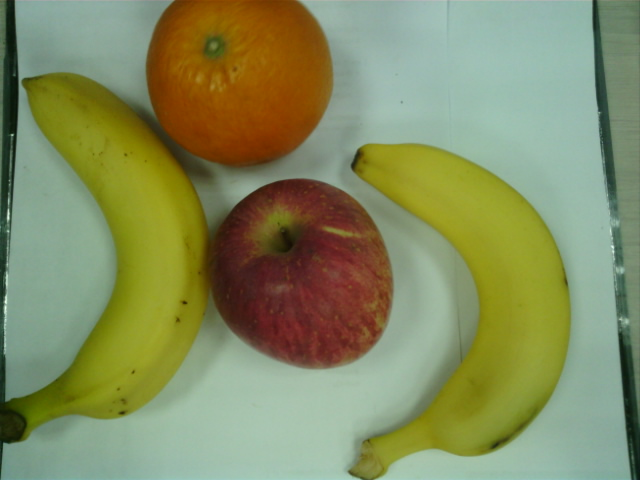normal_apple: (213, 179, 391, 368)
normal_banana: (354, 143, 570, 480), (20, 74, 208, 422)
normal_orange: (148, 1, 334, 171)
